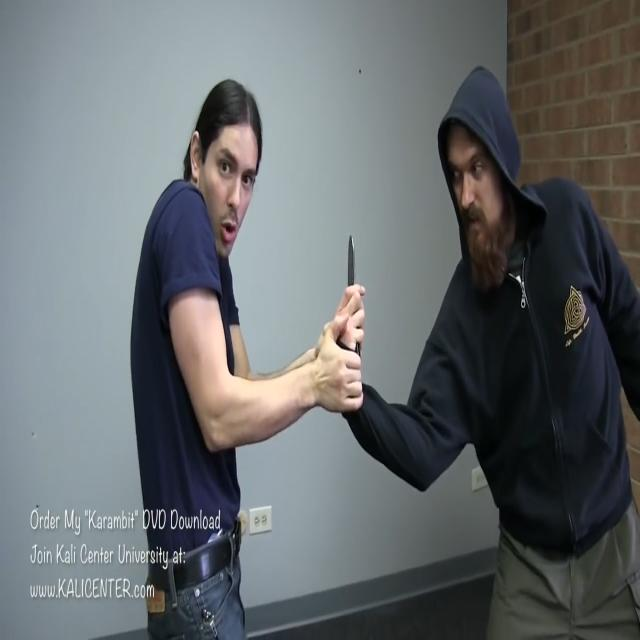knife: (346, 235, 360, 290)
